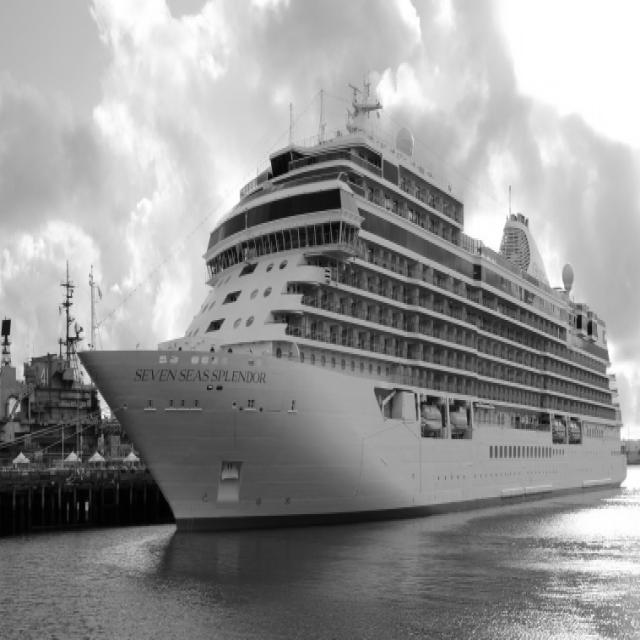cruises: (76, 74, 632, 546)
